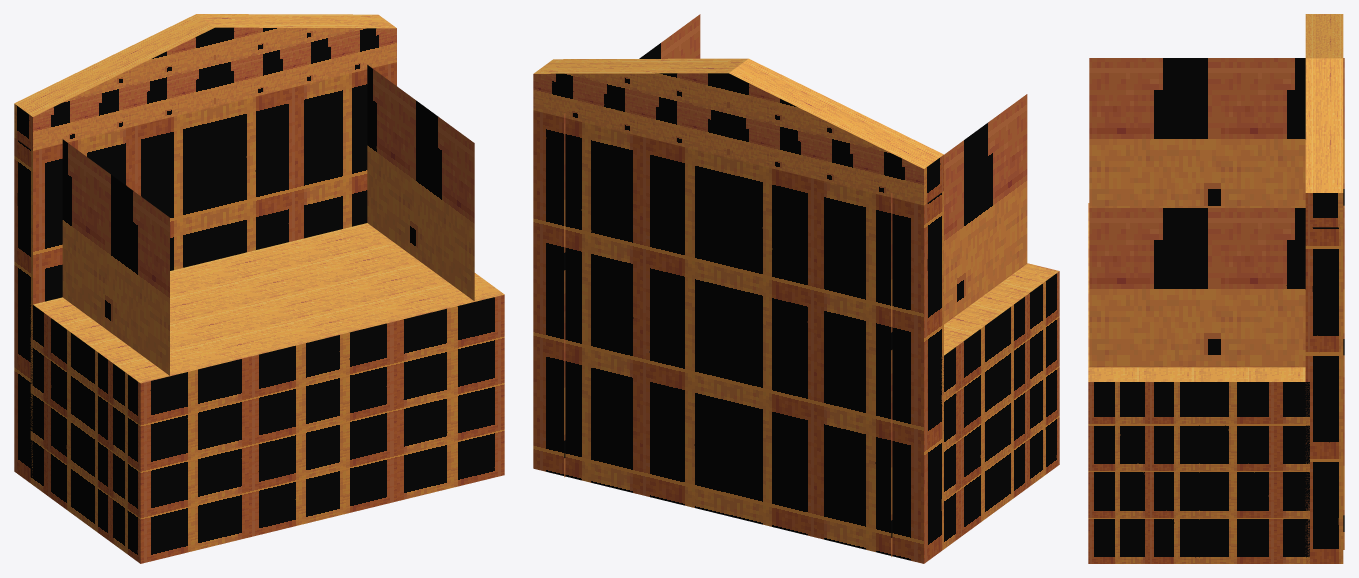
3 renders of one model, left to right at view 1: azimuth 30°, elevation 25°; view 2: azimuth 150°, elevation 25°; view 3: azimuth 270°, elevation 25°, orthographic. The views are drawn at different scales.
Visible parts, largest first — view 1: 3745kg_ga_04; view 2: 3745kg_ga_04; view 3: 3745kg_ga_04.
Part boxes in pixels (left/top/right/bottom): 3745kg_ga_04: left=14, top=14, right=504, bottom=563; 3745kg_ga_04: left=533, top=14, right=1059, bottom=563; 3745kg_ga_04: left=1088, top=14, right=1344, bottom=563.
Bounding box in the file's own units: 1.58 × 1.72 × 0.957.
4 materials, 4 textured.
